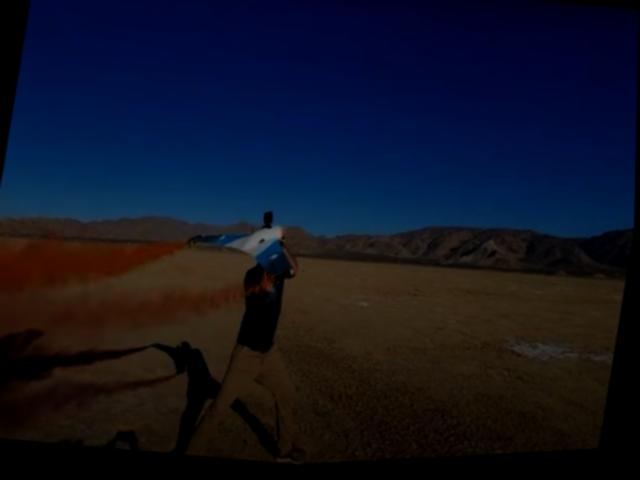iha: (180, 203, 307, 288)
